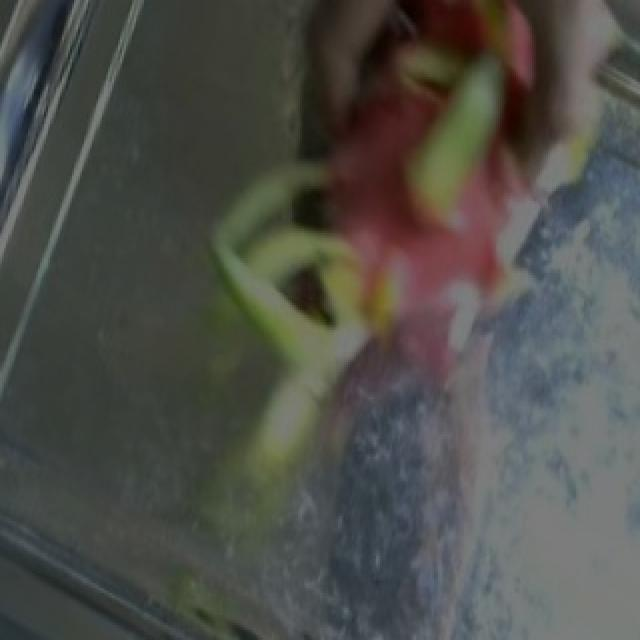fruit: (176, 0, 630, 454)
